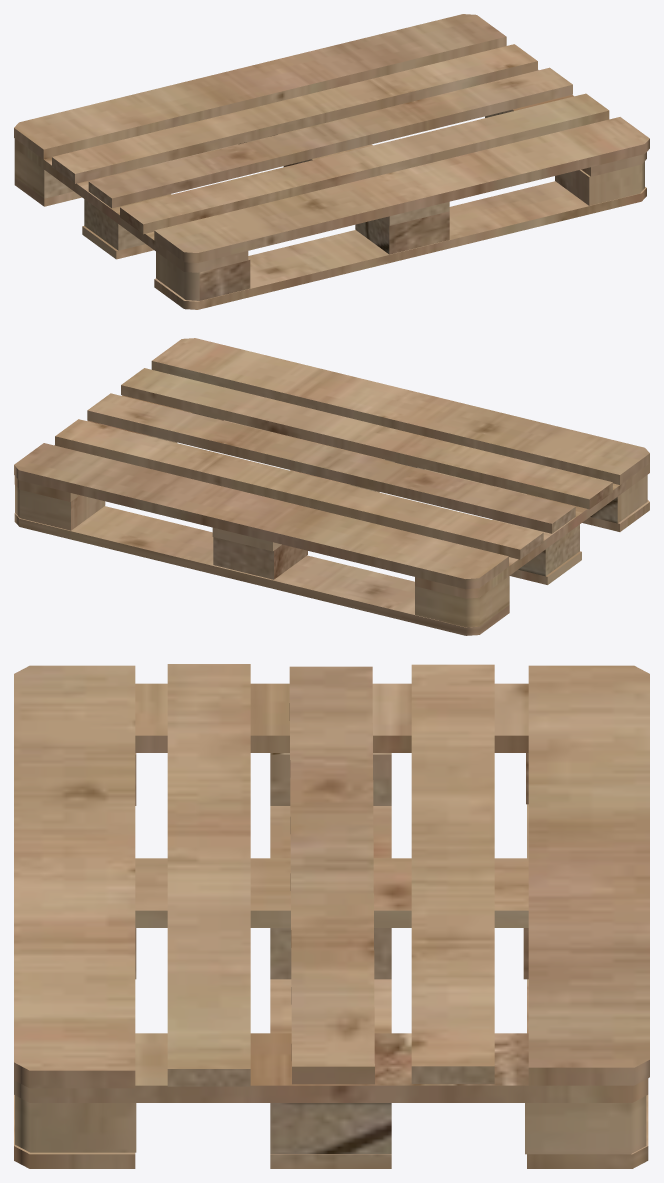
File: pallet.glb
The picture shows the model from 3 angles, top to bottom: view 1: azimuth 30°, elevation 25°; view 2: azimuth 150°, elevation 25°; view 3: azimuth 270°, elevation 25°; orthographic projection. The views are drawn at different scales.
Parts seen in each view (by area): view 1: warehouse_pallet_a01; view 2: warehouse_pallet_a01; view 3: warehouse_pallet_a01.
Part boxes in pixels (left/top/right/bottom): warehouse_pallet_a01: left=14, top=14, right=649, bottom=309; warehouse_pallet_a01: left=14, top=338, right=649, bottom=635; warehouse_pallet_a01: left=14, top=664, right=649, bottom=1168.
Bounding box in the file's own units: 1.21 × 0.1425 × 0.8024.
Materials: 1 (1 with a texture image).
